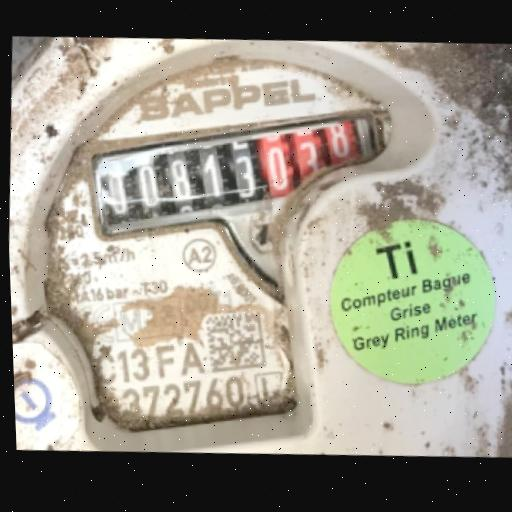0: (123, 152, 173, 222), (255, 129, 301, 200), (95, 157, 138, 227)
1: (191, 143, 238, 209)
3: (220, 134, 269, 206), (284, 122, 338, 186)
8: (158, 146, 205, 216), (318, 115, 362, 166)
border_water_meter_number: (75, 95, 390, 263)
